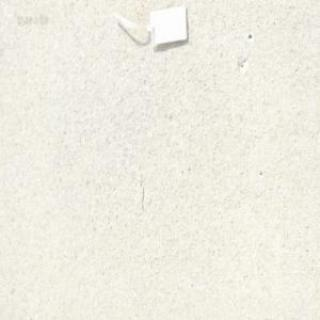LuggageTagtrack_idkeyframe: (107, 2, 188, 52)
